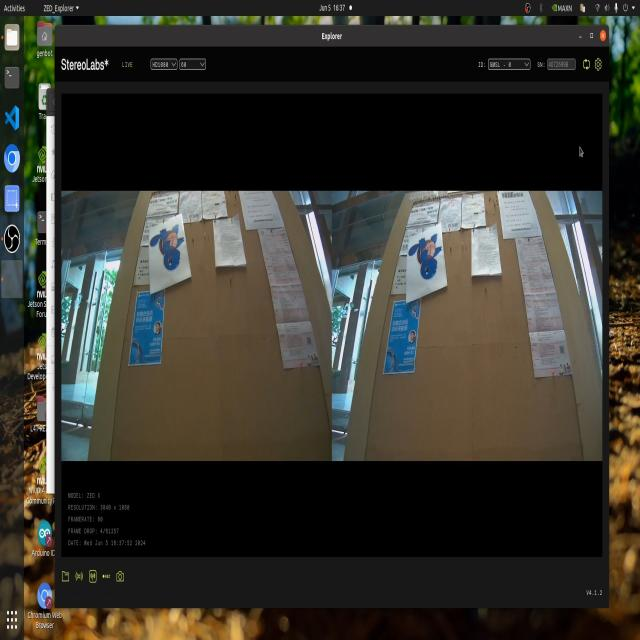blue: (408, 215, 447, 296), (145, 217, 195, 269)
